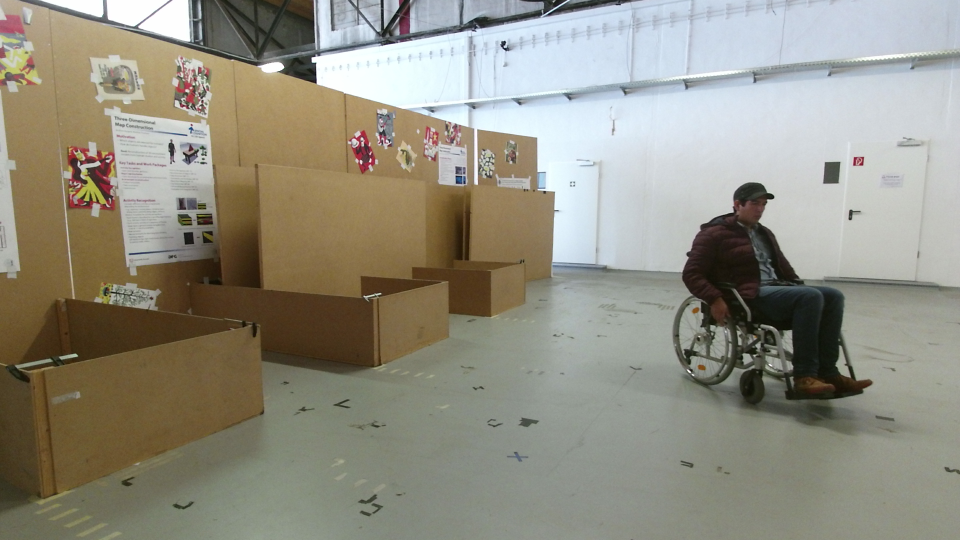wheelchair: (681, 186, 864, 399)
